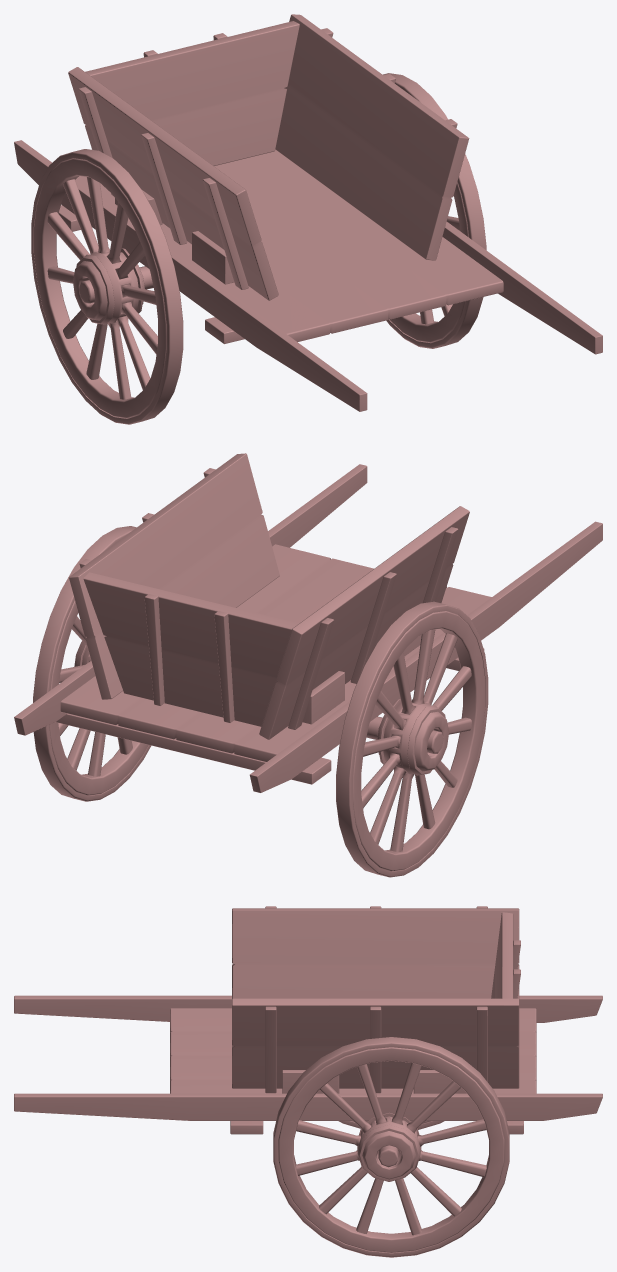
The model's file is SM_Cart_Unity.fbx.
3 views of the same model, one above another, from view 1: azimuth 30°, elevation 25°; view 2: azimuth 150°, elevation 25°; view 3: azimuth 270°, elevation 25° (orthographic). The views are drawn at different scales.
Visible parts, largest first — view 1: SM_Cart; view 2: SM_Cart; view 3: SM_Cart.
Boxes of the visible parts, x1,y1,x2,y2 form: SM_Cart: [14, 14, 602, 424]; SM_Cart: [14, 453, 602, 877]; SM_Cart: [14, 906, 602, 1257].
Bounding box in the file's own units: 1.94 × 1.47 × 3.29.
